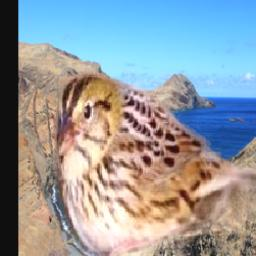Sparrow: (54, 69, 256, 256)
